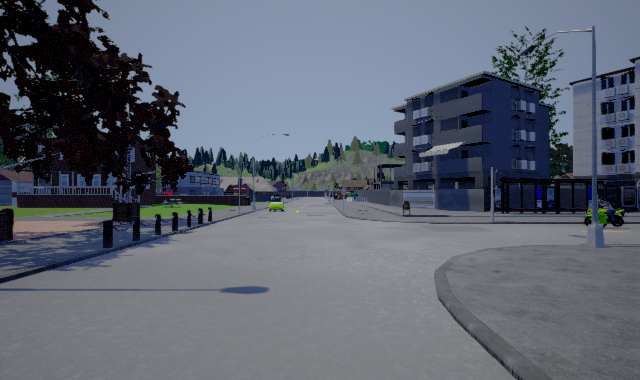motobike: (585, 200, 626, 227)
vehicle: (268, 195, 283, 211)
